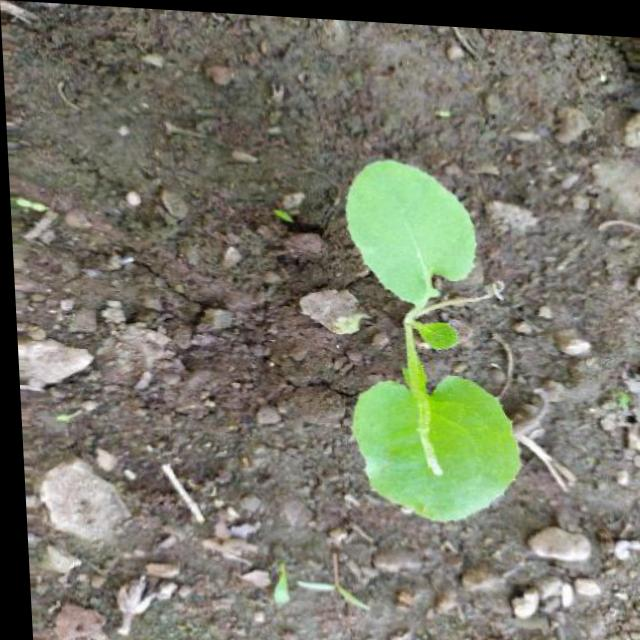weed: (328, 152, 529, 516)
